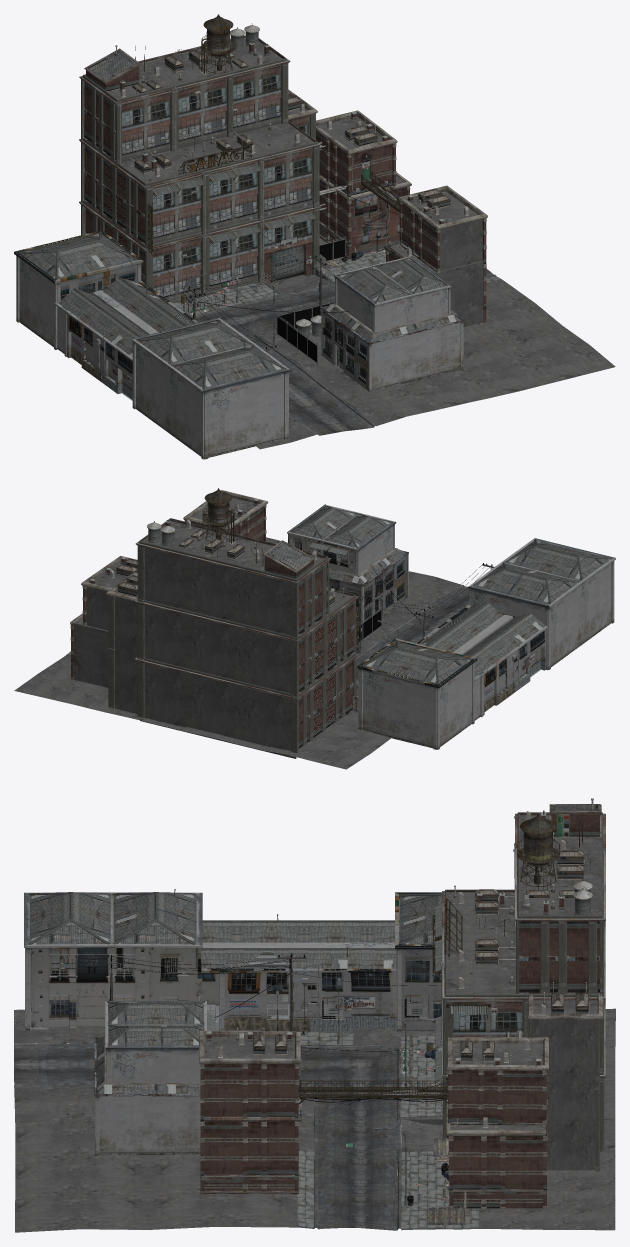
The model's file is factory1.glb.
The picture shows the model from 3 angles, top to bottom: view 1: azimuth 30°, elevation 25°; view 2: azimuth 150°, elevation 25°; view 3: azimuth 270°, elevation 25°; orthographic projection. The views are drawn at different scales.
Visible parts, largest first — view 1: Object_36, Object_41, Object_30, Object_29, Object_50, Object_31, Object_40, Object_42, Object_47, Object_44, Object_34, Object_22 (+6 smaller); view 2: Object_41, Object_30, Object_29, Object_36, Object_50, Object_47, Object_42, Object_28, Object_40, Object_31, Object_34, Object_27 (+2 smaller); view 3: Object_41, Object_50, Object_29, Object_40, Object_36, Object_30, Object_27, Object_47, Object_42, Object_22, Object_31, Object_34 (+10 smaller).
Boxes of the visible parts, bbox=[...] form: Object_36: bbox=[79, 35, 483, 322]; Object_41: bbox=[85, 38, 615, 449]; Object_30: bbox=[16, 256, 463, 459]; Object_29: bbox=[20, 50, 461, 389]; Object_50: bbox=[84, 44, 486, 322]; Object_31: bbox=[114, 25, 469, 365]; Object_40: bbox=[191, 268, 496, 435]; Object_42: bbox=[84, 48, 487, 334]; Object_47: bbox=[14, 146, 251, 399]; Object_44: bbox=[83, 108, 464, 344]; Object_34: bbox=[129, 14, 403, 319]; Object_22: bbox=[173, 250, 501, 346]; Object_41: bbox=[14, 497, 461, 769]; Object_30: bbox=[287, 504, 615, 749]; Object_29: bbox=[266, 504, 612, 684]; Object_36: bbox=[73, 516, 358, 753]; Object_50: bbox=[70, 501, 353, 748]; Object_47: bbox=[356, 605, 545, 714]; Object_42: bbox=[70, 490, 397, 679]; Object_28: bbox=[329, 554, 407, 625]; Object_40: bbox=[356, 584, 469, 695]; Object_31: bbox=[90, 498, 381, 694]; Object_34: bbox=[154, 488, 359, 653]; Object_27: bbox=[288, 533, 356, 574]; Object_41: bbox=[14, 816, 615, 1232]; Object_50: bbox=[200, 813, 599, 1208]; Object_29: bbox=[27, 804, 598, 1094]; Object_40: bbox=[14, 1043, 401, 1230]; Object_36: bbox=[201, 812, 605, 1202]; Object_30: bbox=[24, 892, 439, 1155]; Object_27: bbox=[30, 947, 428, 1030]; Object_47: bbox=[201, 892, 441, 1031]; Object_42: bbox=[104, 804, 603, 1229]; Object_22: bbox=[297, 1032, 479, 1229]; Object_31: bbox=[206, 798, 594, 1197]; Object_34: bbox=[298, 813, 593, 1205].
Size of the model in its own units: 1.36 by 0.7827 by 1.38.
35 materials, 34 textured.
